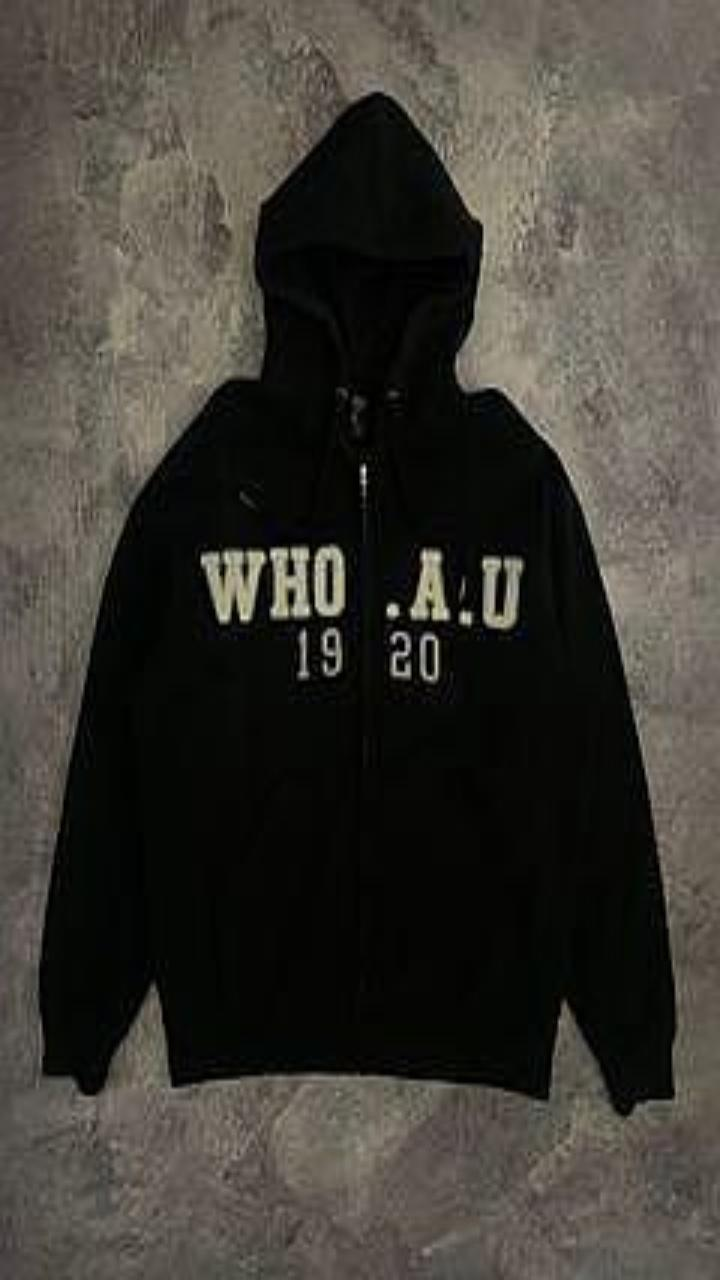Sports_Jacket: (39, 91, 675, 1114)
